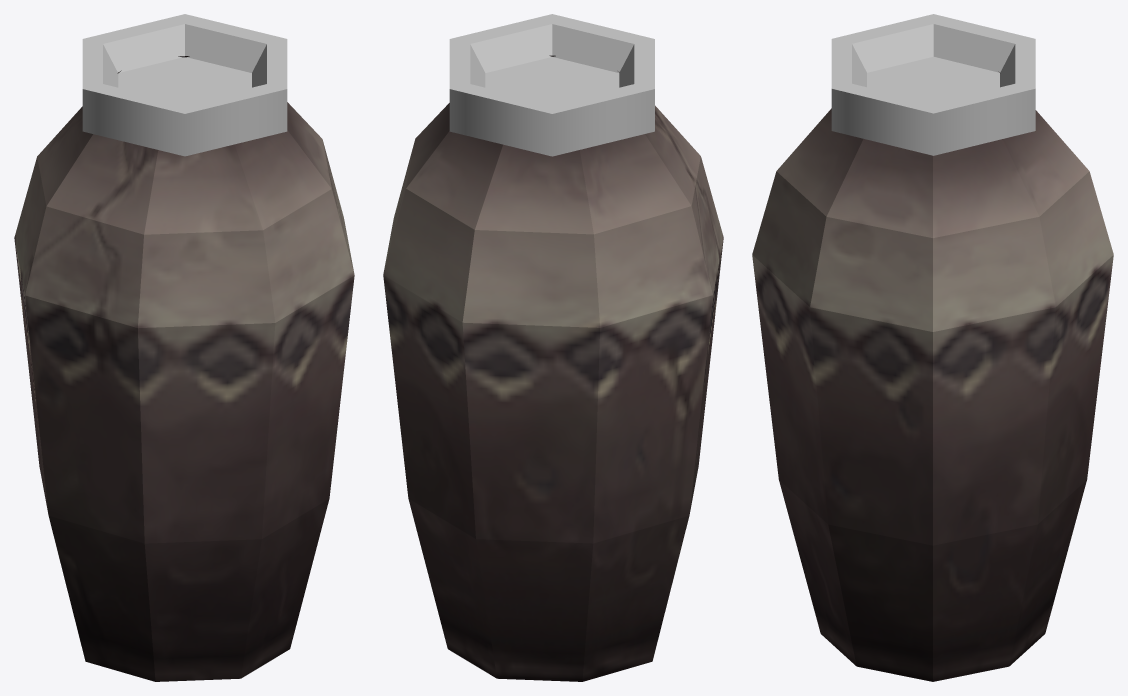
The model's file is js_suilie_taoguan_001.FBX.
The picture shows the model from 3 angles, left to right: view 1: azimuth 30°, elevation 25°; view 2: azimuth 150°, elevation 25°; view 3: azimuth 270°, elevation 25°; orthographic projection.
Parts seen in each view (by area): view 1: Object24; view 2: Object24; view 3: Object24.
Part boxes in pixels (<box>): Object24: <box>14,14,354,681</box>; Object24: <box>383,14,723,681</box>; Object24: <box>752,14,1113,681</box>.
Bounding box in the file's own units: 34.41 × 59.1 × 33.95.
